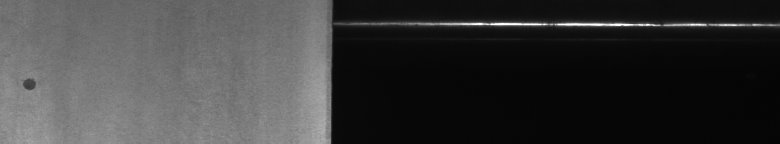fi: (17, 68, 40, 96)
